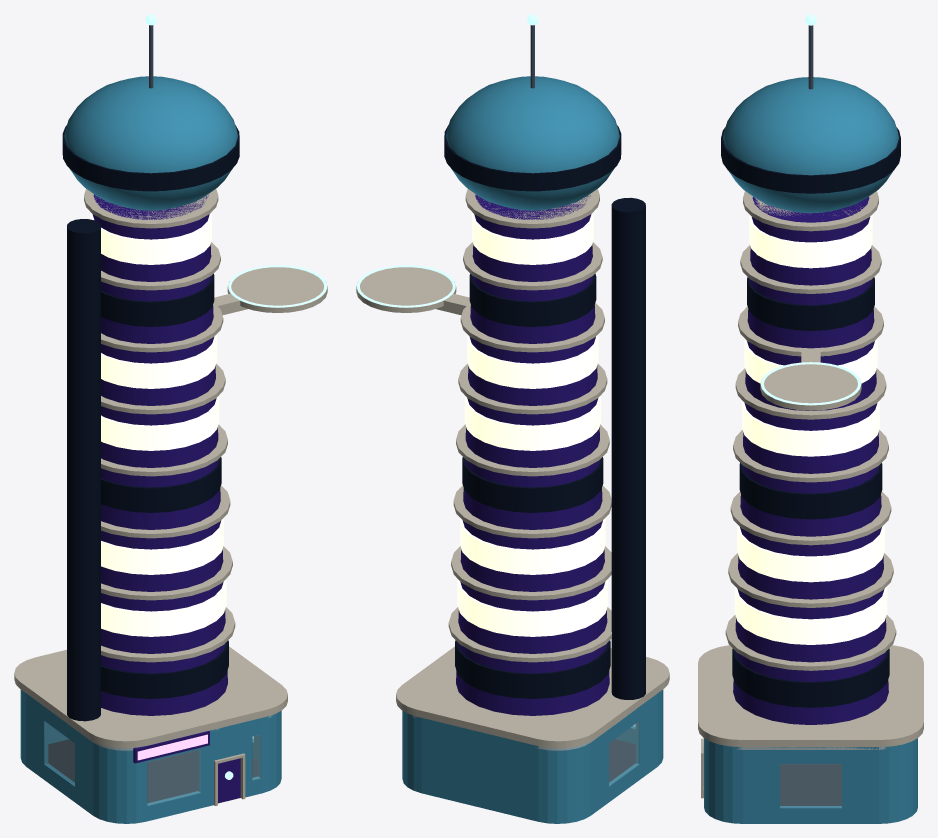
File: pod_tower.glb
The picture shows the model from 3 angles, left to right: view 1: azimuth 30°, elevation 25°; view 2: azimuth 150°, elevation 25°; view 3: azimuth 270°, elevation 25°; orthographic projection.
Parts seen in each view (by area): view 1: pod_tower, door_shop_leaf; view 2: pod_tower; view 3: pod_tower.
Boxes of the visible parts, box(x1,y1,x2,y2) form: pod_tower: box(14, 14, 327, 823); door_shop_leaf: box(218, 758, 240, 803); pod_tower: box(356, 14, 669, 823); pod_tower: box(698, 14, 923, 823).
Bounding box in the file's own units: 16 × 43.3 × 11.6.
